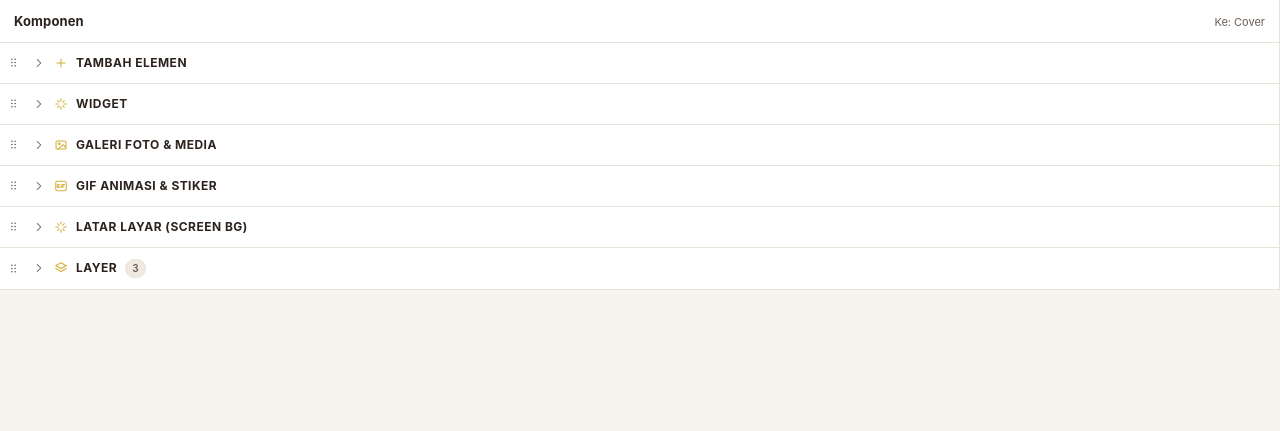
Scenario: LeftPanel Layer Drag and Drop UI › renders grip handles and draggable layer rows
Click the button "Layer 3". click: {"x": 97, "y": 268}
box: [24,248,1228,288]
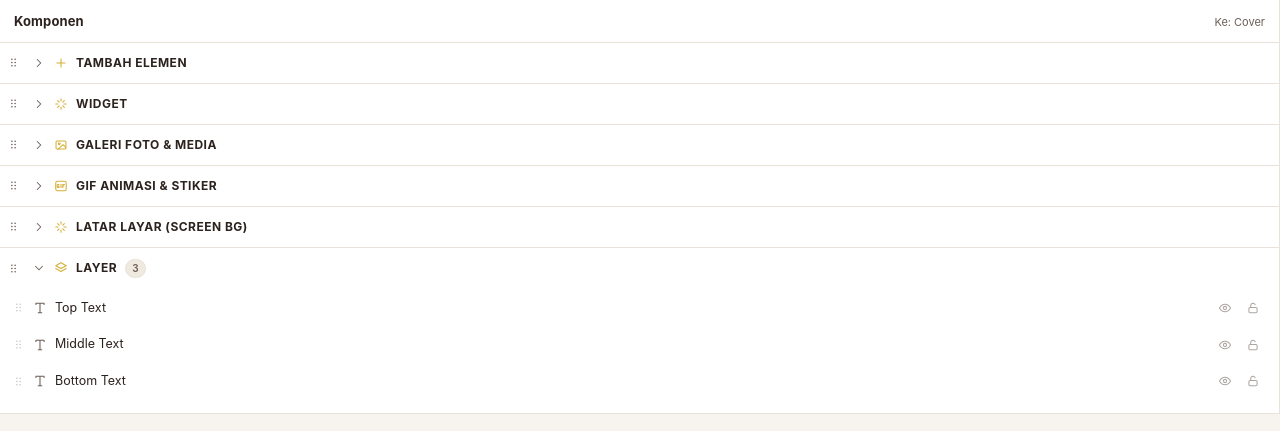
Expected: the element with test id "layer-grip-el_top" is shown, [12,301,24,314]
Result: the list with test id "layer-list" is shown at [8,290,1271,399]
